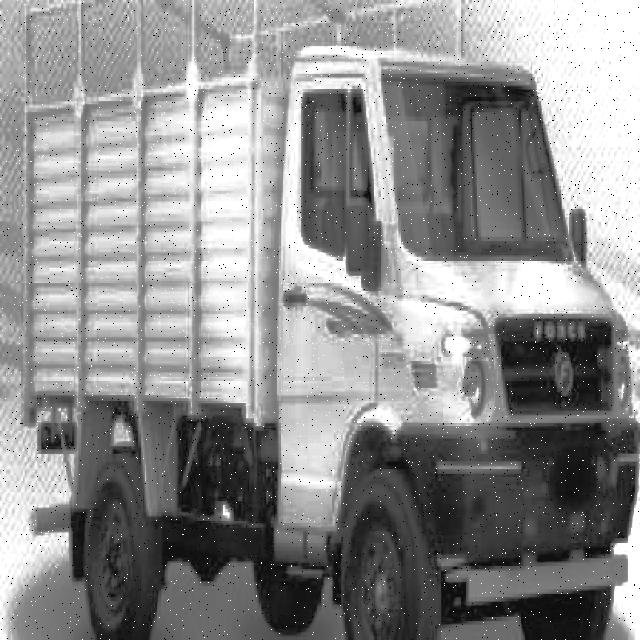LCV: (21, 28, 612, 613)
